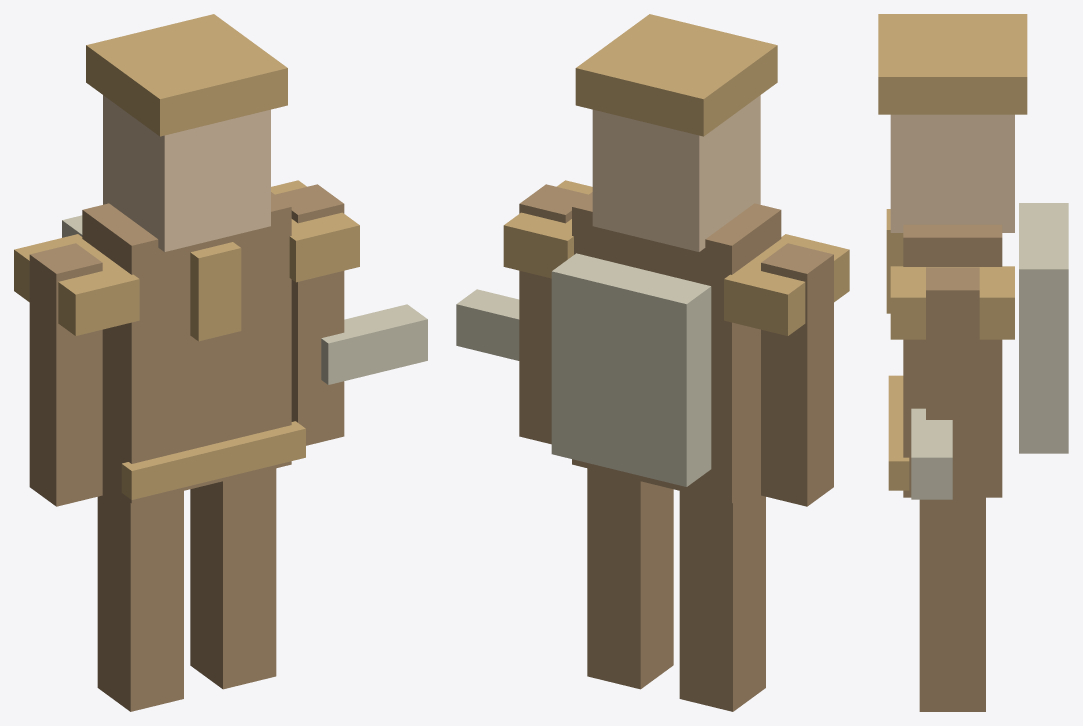
The model's file is 03_varren_gearmantle_mechanist_from_night.glb.
The picture shows the model from 3 angles, left to right: view 1: azimuth 30°, elevation 25°; view 2: azimuth 150°, elevation 25°; view 3: azimuth 270°, elevation 25°; orthographic projection.
Parts seen in each view (by area): view 1: Varren Gearmantle, Mechanist from Night; view 2: Varren Gearmantle, Mechanist from Night; view 3: Varren Gearmantle, Mechanist from Night.
Boxes of the visible parts, x1,y1,x2,y2 form: Varren Gearmantle, Mechanist from Night: (14,14,427,711); Varren Gearmantle, Mechanist from Night: (456,14,849,711); Varren Gearmantle, Mechanist from Night: (878,14,1068,711).
Size of the model in its own units: 0.9686 by 1.59 by 0.4347.
